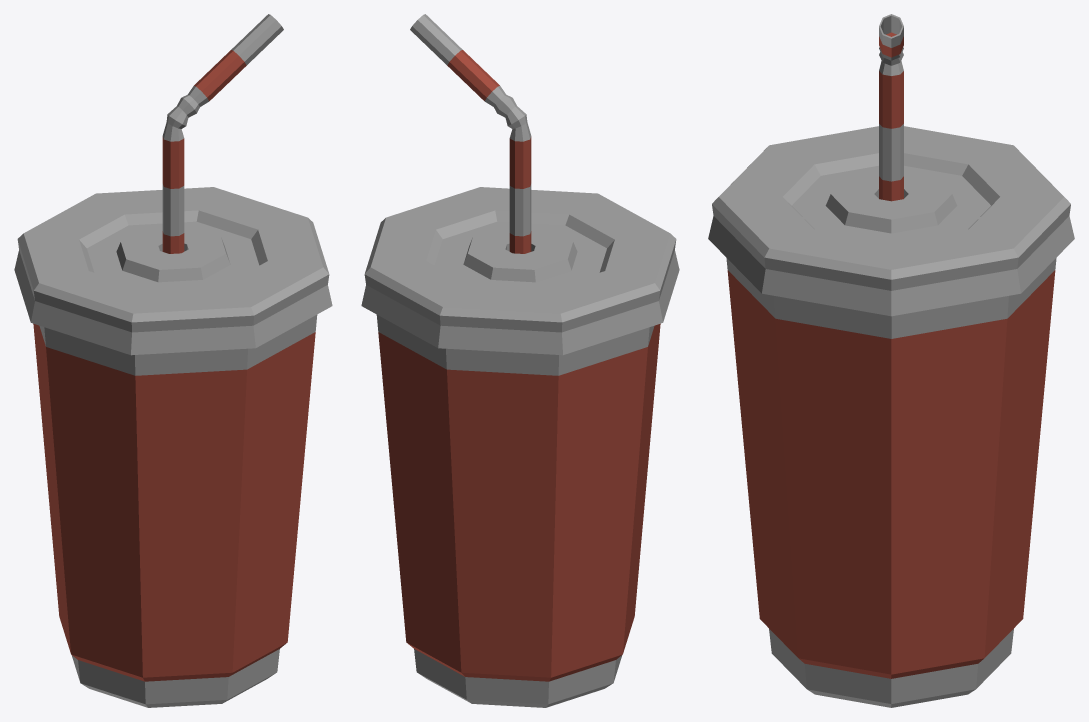
File: Soda.glb
3 renders of one model, left to right at view 1: azimuth 30°, elevation 25°; view 2: azimuth 150°, elevation 25°; view 3: azimuth 270°, elevation 25°, orthographic. The views are drawn at different scales.
Visible parts, largest first — view 1: Red, White; view 2: Red, White; view 3: Red, White.
Part boxes in pixels (<box>): Red: <box>33,50,315,681</box>; White: <box>14,14,332,707</box>; Red: <box>378,50,660,681</box>; White: <box>361,14,679,707</box>; Red: <box>727,32,1055,678</box>; White: <box>708,14,1074,707</box>.
Bounding box in the file's own units: 0.9118 × 1.92 × 0.9118.
